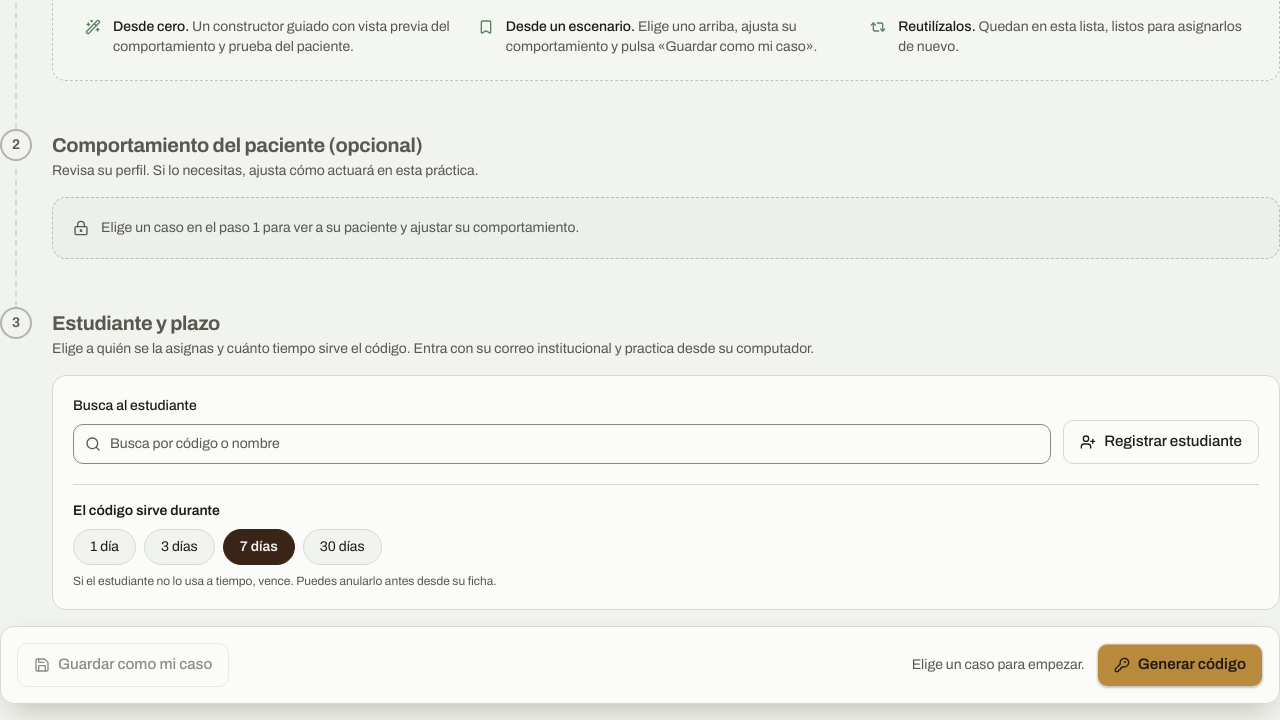
it: ConfiguradorSesion › estudiantes › el buscador solo ofrece a los estudiantes con cuenta
(page scrolled)
Click the dropdown at (562, 444), box x1=73 y1=424 x2=1051 y2=464
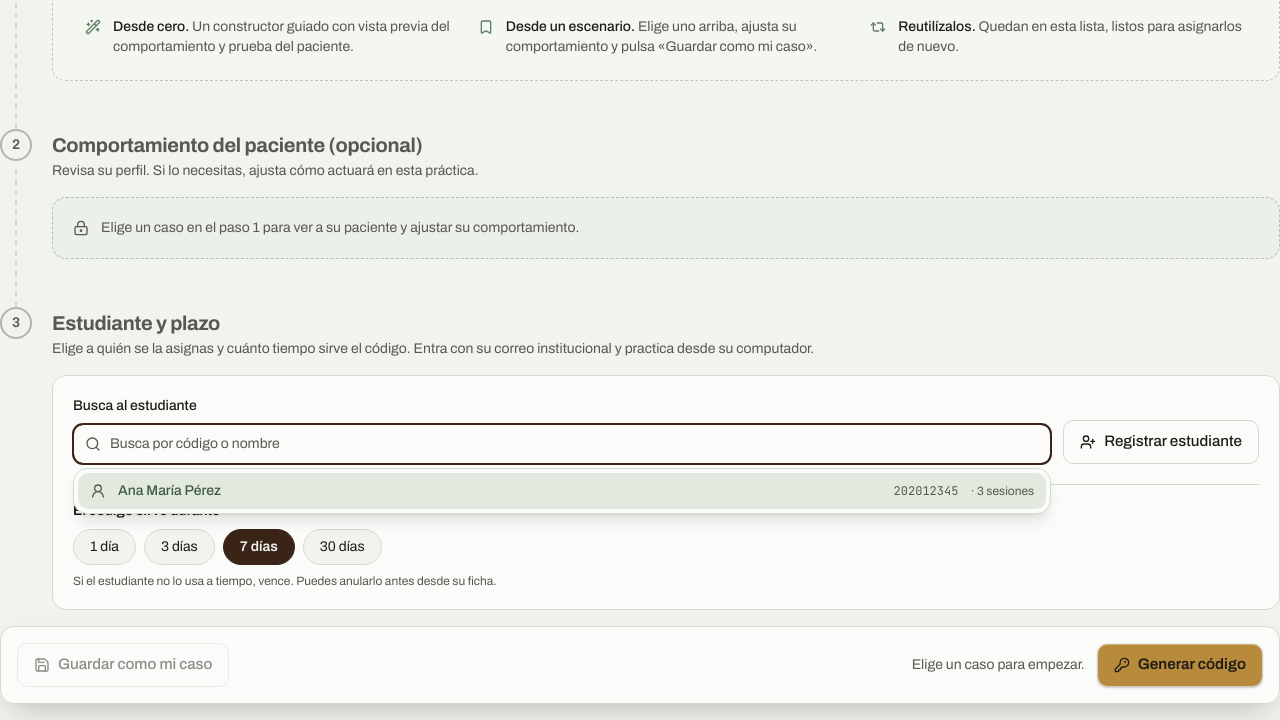
Check: the option "Ana María Pérez 202012345 · 3 sesiones" is shown, box x1=78 y1=473 x2=1046 y2=509
